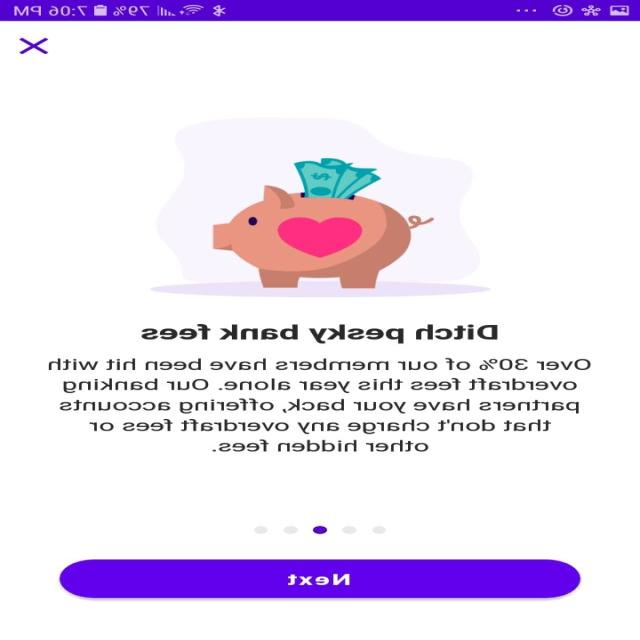Icon: (20, 37, 50, 54)
Image: (150, 117, 492, 297)
Text: (49, 358, 591, 451), (141, 324, 499, 343)
TextButton: (59, 559, 582, 598)
